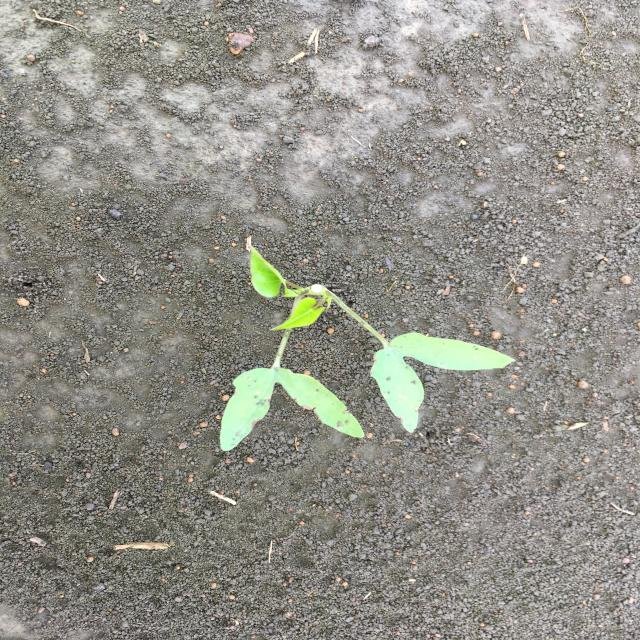MorningGlory: (216, 240, 517, 454)
